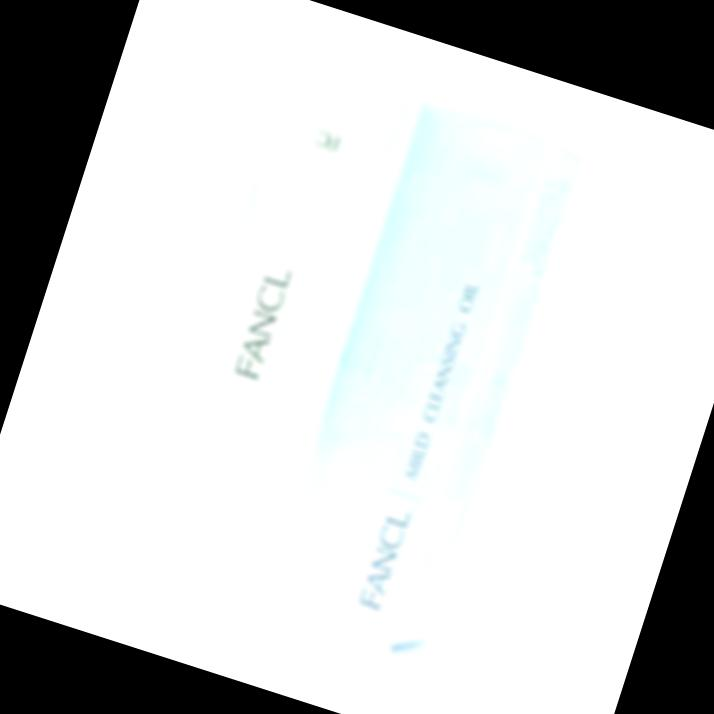cosmetic: (116, 62, 412, 585)
